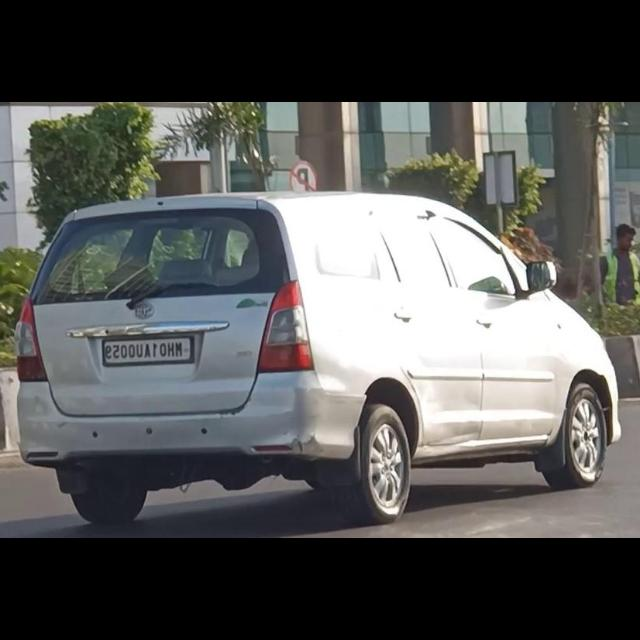number-plate: (98, 334, 195, 370)
vehicles: (15, 188, 620, 538)
